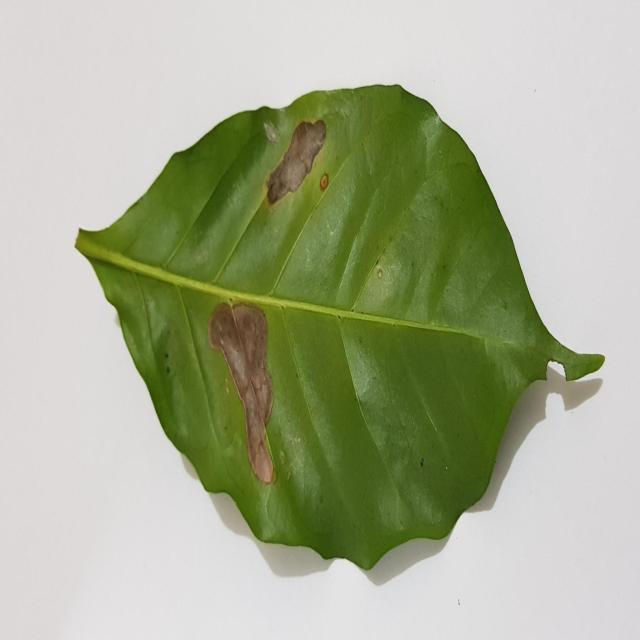Plaga-Minador: (75, 85, 605, 572)
